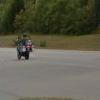Motorcycle: (10, 33, 43, 63)
